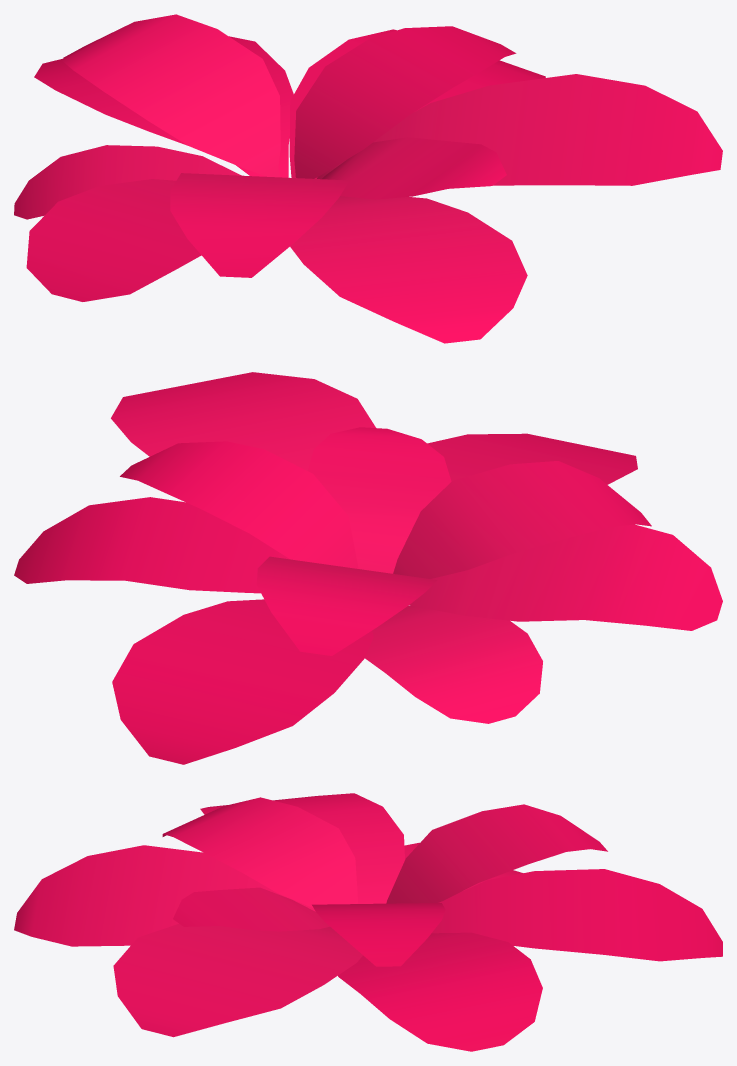
File: plant2.fbx
3 views of the same model, one above another, from view 1: azimuth 30°, elevation 25°; view 2: azimuth 150°, elevation 25°; view 3: azimuth 270°, elevation 25° (orthographic). The views are drawn at different scales.
Visible parts, largest first — view 1: plant2; view 2: plant2; view 3: plant2.
Part boxes in pixels (left/top/right/bottom): plant2: left=14, top=14, right=722, bottom=343; plant2: left=14, top=372, right=722, bottom=764; plant2: left=14, top=793, right=722, bottom=1051.
Size of the model in its own units: 126 by 26.05 by 142.
